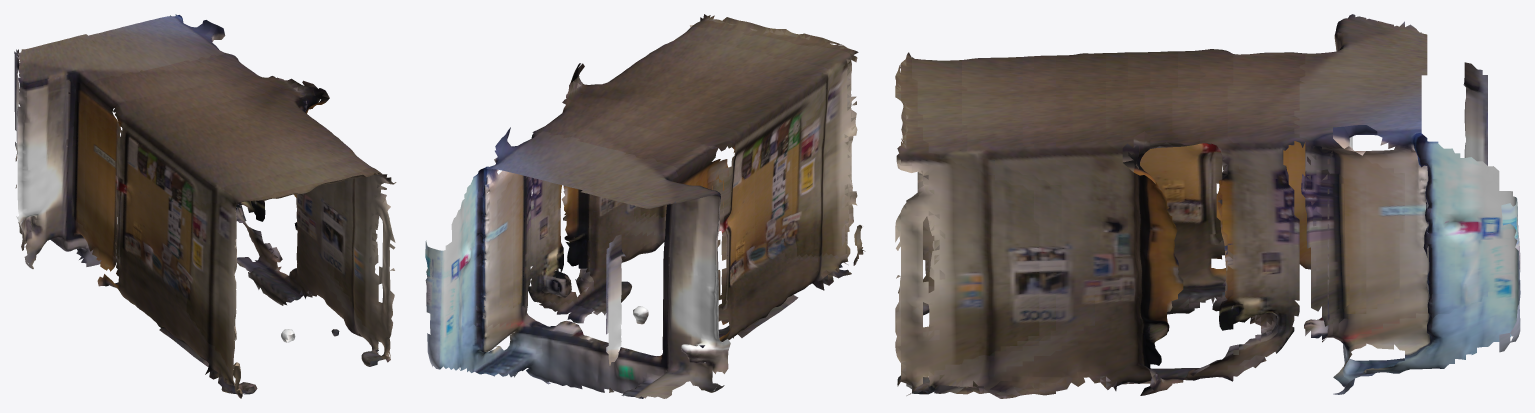
File: Hall5.obj
The picture shows the model from 3 angles, left to right: view 1: azimuth 30°, elevation 25°; view 2: azimuth 150°, elevation 25°; view 3: azimuth 270°, elevation 25°; orthographic projection. The views are drawn at different scales.
Size of the model in its own units: 3.91 by 3.72 by 7.29.
Materials: 1 (1 with a texture image).
